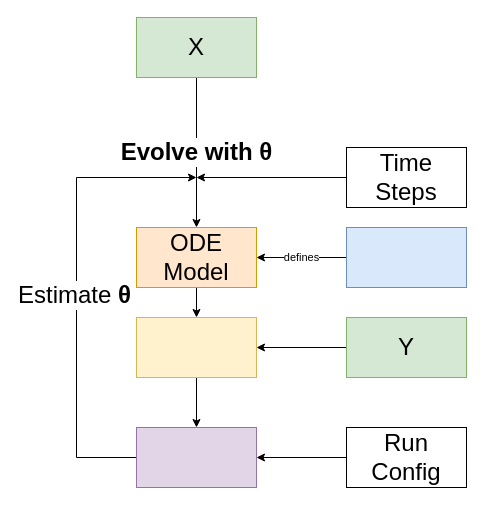
Image size: 484x505. Some labels were removed from this diagram. The centre of each missing label's shape, as x and y in pixels:
Bionetgen: [406,257]
GMM: [196,347]
PSO: [196,457]
